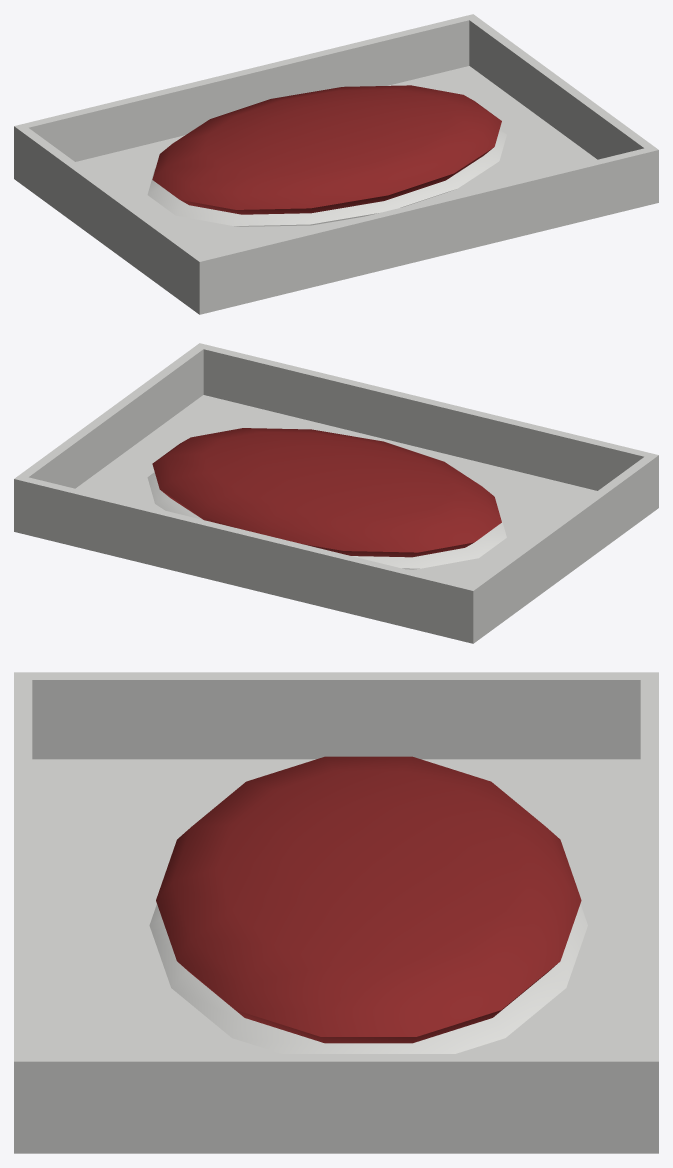
Rendered from Tuna.fbx.
3 views of the same model, one above another, from view 1: azimuth 30°, elevation 25°; view 2: azimuth 150°, elevation 25°; view 3: azimuth 270°, elevation 25° (orthographic). The views are drawn at different scales.
Visible parts, largest first — view 1: Tuna; view 2: Tuna; view 3: Tuna.
Part boxes in pixels (x1,y1,x2,y2): Tuna: (14, 14, 658, 314); Tuna: (14, 343, 658, 643); Tuna: (14, 672, 658, 1153).
Bounding box in the file's own units: 0.2 × 0.025 × 0.14.
